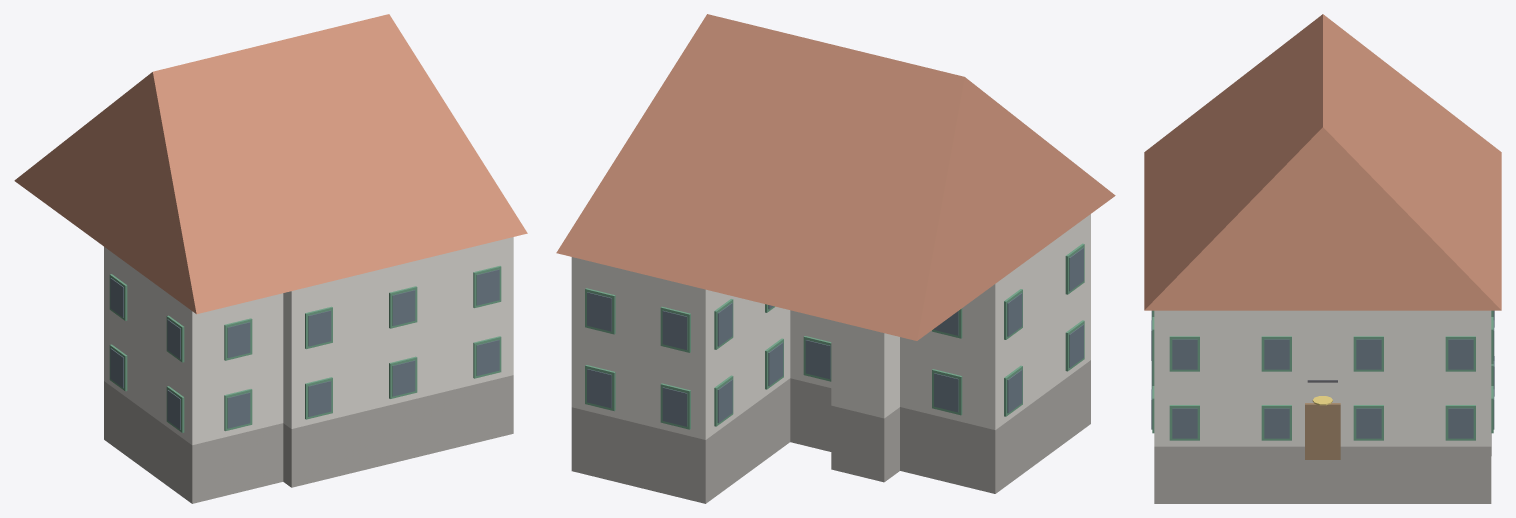
The model's file is inn-668713560.glb.
3 views of the same model, side by side, from view 1: azimuth 30°, elevation 25°; view 2: azimuth 150°, elevation 25°; view 3: azimuth 270°, elevation 25° (orthographic). The views are drawn at different scales.
Visible parts, largest first — view 1: building; view 2: building; view 3: building.
Boxes of the visible parts, bbox=[...] form: building: bbox=[14, 14, 527, 503]; building: bbox=[556, 14, 1115, 503]; building: bbox=[1144, 14, 1501, 503].
Size of the model in its own units: 15.9 by 15.6 by 14.09.
